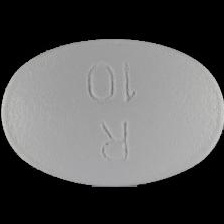68084-740: (0, 0, 224, 224)
